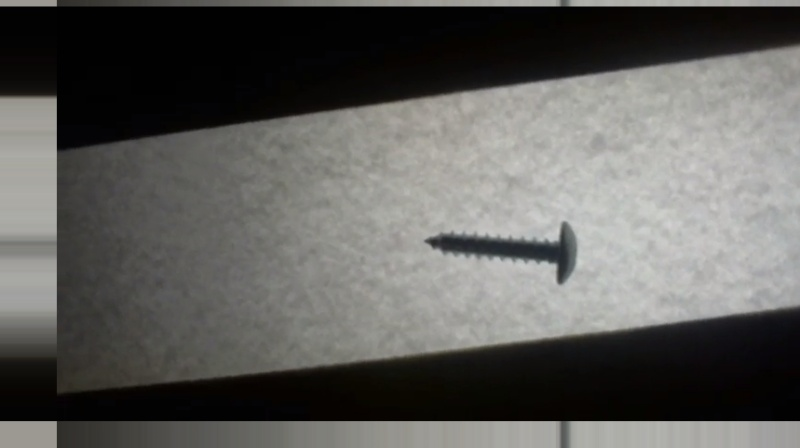S003: (418, 220, 582, 286)
